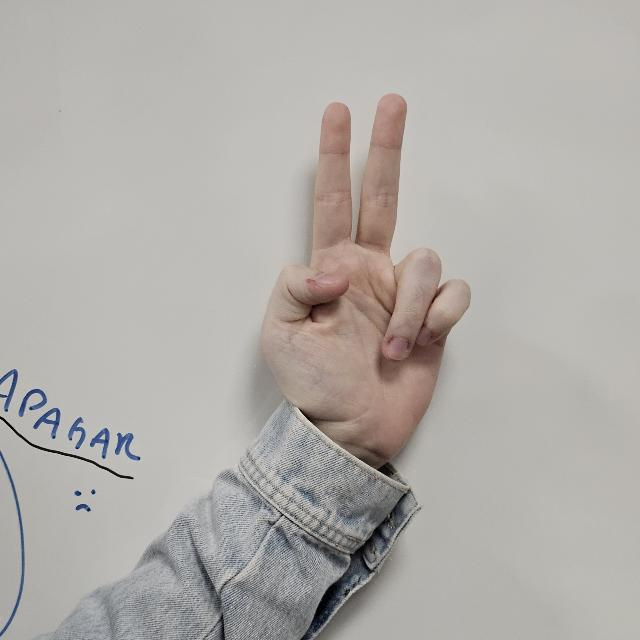Triangulo: (256, 91, 476, 469)
